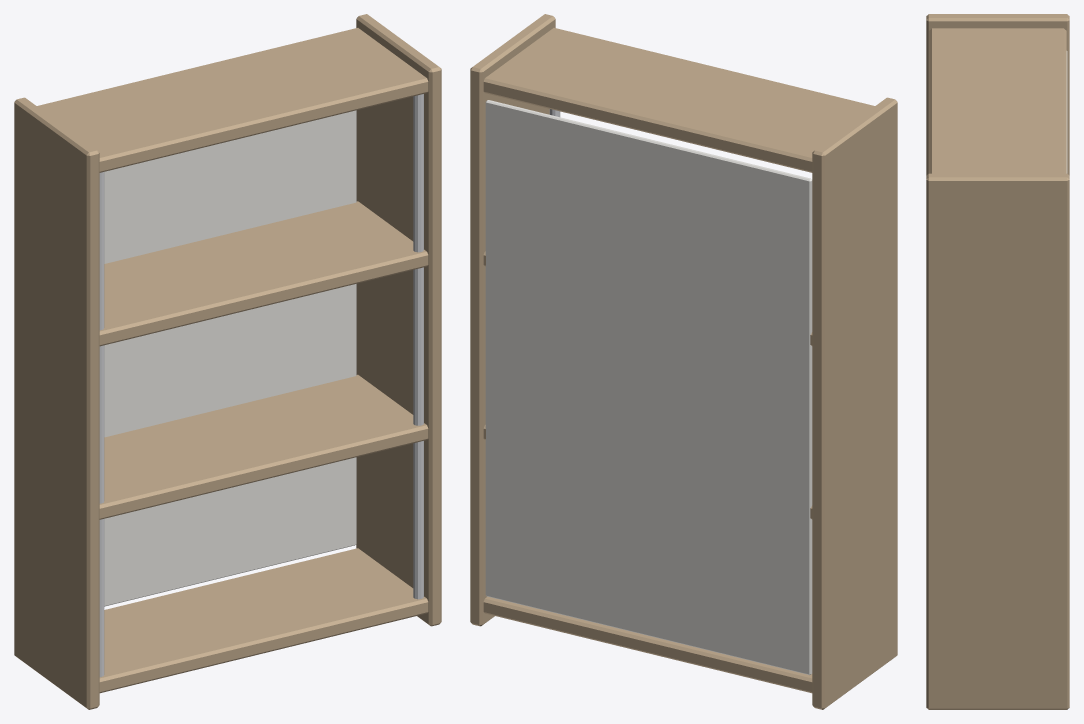
File: fitted-kitchen-and-bathroom-builder-bathroom-shelf-uni-09427a14__17890.glb
The picture shows the model from 3 angles, left to right: view 1: azimuth 30°, elevation 25°; view 2: azimuth 150°, elevation 25°; view 3: azimuth 270°, elevation 25°; orthographic projection. The views are drawn at different scales.
Visible parts, largest first — view 1: bathroom-shelf-unit; view 2: bathroom-shelf-unit; view 3: bathroom-shelf-unit.
Boxes of the visible parts, <box> form: bathroom-shelf-unit: <box>14,14,441,709</box>; bathroom-shelf-unit: <box>470,14,897,709</box>; bathroom-shelf-unit: <box>926,14,1069,709</box>.
Bounding box in the file's own units: 0.6 × 0.9 × 0.22.
